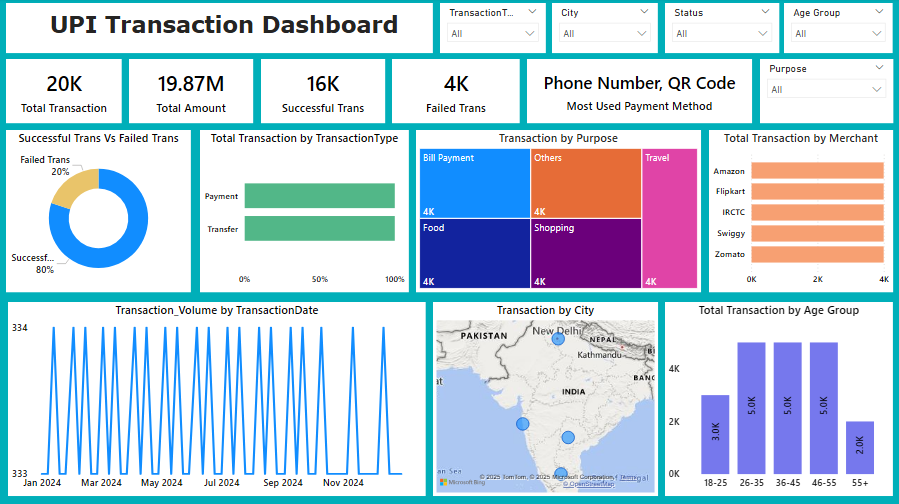

What the dashboard file says about the page in this screenshot:
{"tool":"powerbi","page":{"name":"UPI Dashboard","canvas":[1280,720],"ordinal":0},"visuals":[{"type":"textbox","box":[9.9,7.1,605.2,70.9],"z":0},{"type":"card","fields":{"Values":["Measures (2).Total Transaction"]},"box":[9.9,86.5,164.4,90.7],"z":1000},{"type":"card","fields":{"Values":["Measures (2).Total Amount"]},"box":[184.3,86.5,175.7,90.7],"z":2000},{"type":"card","fields":{"Values":["Measures (2).Successful Trans"]},"box":[371.3,86.5,175.7,90.7],"z":3000},{"type":"card","fields":{"Values":["Measures (2).Failed Trans"]},"box":[557,86.5,181.4,90.7],"z":4000},{"type":"donutChart","title":"Successful Trans Vs  Failed Trans","fields":{"Y":["Measures (2).Successful Trans","Measures (2).Failed Trans"]},"box":[9.9,187.1,262.2,229.6],"z":5000},{"type":"lineChart","fields":{"Category":["UPI Trans Dataset.TransactionDate.Variation.Date Hierarchy.Year"],"Y":["Measures (2).Transaction_Volume"]},"box":[12.8,430.9,592.4,275],"z":6000},{"type":"hundredPercentStackedBarChart","fields":{"Category":["UPI Trans Dataset.TransactionType"],"Y":["Measures (2).Total Transaction"]},"box":[284.9,187.1,296.2,229.6],"z":7000},{"type":"treemap","title":"Transaction by Purpose","fields":{"Group":["UPI Trans Dataset.Purpose"],"Values":["Measures (2).Total Transaction"]},"box":[591,187.1,403.9,229.6],"z":8000},{"type":"clusteredBarChart","title":"Total Transaction by Merchant","fields":{"Category":["UPI Trans Dataset.MerchantName"],"Y":["Measures (2).Total Transaction"]},"box":[1006.3,187.1,260.8,229.6],"z":9000},{"type":"map","title":"Transaction by City","fields":{"Category":["UPI Trans Dataset.City"],"Size":["Measures (2).Total Transaction"]},"box":[615.1,430.9,318.9,275],"z":10000},{"type":"lineClusteredColumnComboChart","fields":{"Category":["UPI Trans Dataset.Age Group"],"Y":["Measures (2).Total Transaction"]},"box":[943.9,430.9,323.1,275],"z":11000},{"type":"slicer","fields":{"Values":["UPI Trans Dataset.TransactionType"]},"box":[625,7.1,150.2,70.9],"z":12000},{"type":"slicer","fields":{"Values":["UPI Trans Dataset.City"]},"box":[783.8,7.1,150.2,70.9],"z":13000},{"type":"slicer","fields":{"Values":["UPI Trans Dataset.Status"]},"box":[943.9,7.1,161.6,70.9],"z":14000},{"type":"slicer","fields":{"Values":["UPI Trans Dataset.Age Group"]},"box":[1112.6,7.1,154.5,70.9],"z":15000},{"type":"card","fields":{"Values":["Measures (2).Most_Used_Payment_Method"]},"box":[748.3,86.5,318.9,90.7],"z":16000},{"type":"slicer","fields":{"Values":["UPI Trans Dataset.Purpose"]},"box":[1078.6,86.5,188.5,90.7],"z":17000}]}

Visuals, with their boxes in screenshot pixels (x1, y1, x2, y2), scaled from the page's 1280x720 canvas onto the 899x504 screenshot:
textbox: crop(7, 5, 432, 55)
card - Measures (2).Total Transaction: crop(7, 61, 122, 124)
card - Measures (2).Total Amount: crop(129, 61, 253, 124)
card - Measures (2).Successful Trans: crop(261, 61, 384, 124)
card - Measures (2).Failed Trans: crop(391, 61, 519, 124)
"Successful Trans Vs  Failed Trans" donutChart: crop(7, 131, 191, 292)
lineChart - UPI Trans Dataset.TransactionDate.Variation.Date Hierarchy.Year x Measures (2).Transaction_Volume: crop(9, 302, 425, 494)
hundredPercentStackedBarChart - UPI Trans Dataset.TransactionType x Measures (2).Total Transaction: crop(200, 131, 408, 292)
"Transaction by Purpose" treemap: crop(415, 131, 699, 292)
"Total Transaction by Merchant" clusteredBarChart: crop(707, 131, 890, 292)
"Transaction by City" map: crop(432, 302, 656, 494)
lineClusteredColumnComboChart - UPI Trans Dataset.Age Group x Measures (2).Total Transaction: crop(663, 302, 890, 494)
slicer - UPI Trans Dataset.TransactionType: crop(439, 5, 544, 55)
slicer - UPI Trans Dataset.City: crop(550, 5, 656, 55)
slicer - UPI Trans Dataset.Status: crop(663, 5, 776, 55)
slicer - UPI Trans Dataset.Age Group: crop(781, 5, 890, 55)
card - Measures (2).Most_Used_Payment_Method: crop(526, 61, 750, 124)
slicer - UPI Trans Dataset.Purpose: crop(758, 61, 890, 124)
